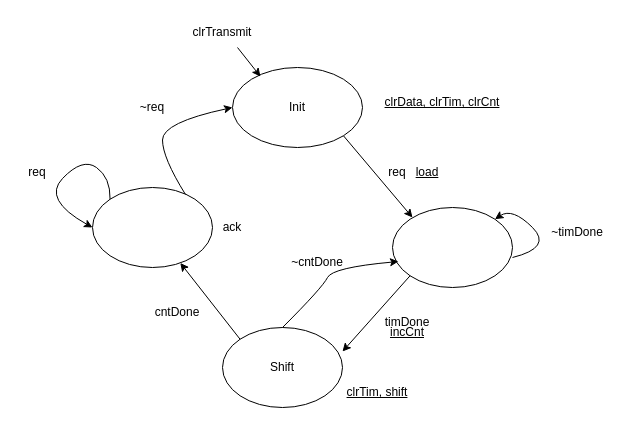
Image size: 634x425. Some labels were removed from this diagram. The shapes that lost their labels are listed below. From the top down, each one's centre as x and y in pixels, then its label:
[152,227]: Done
[452,247]: Wait
